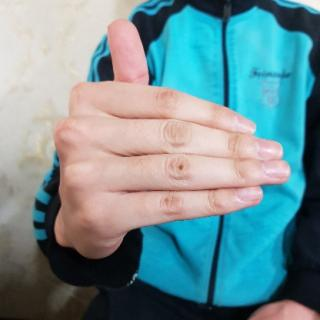KHAA: (48, 11, 298, 264)
